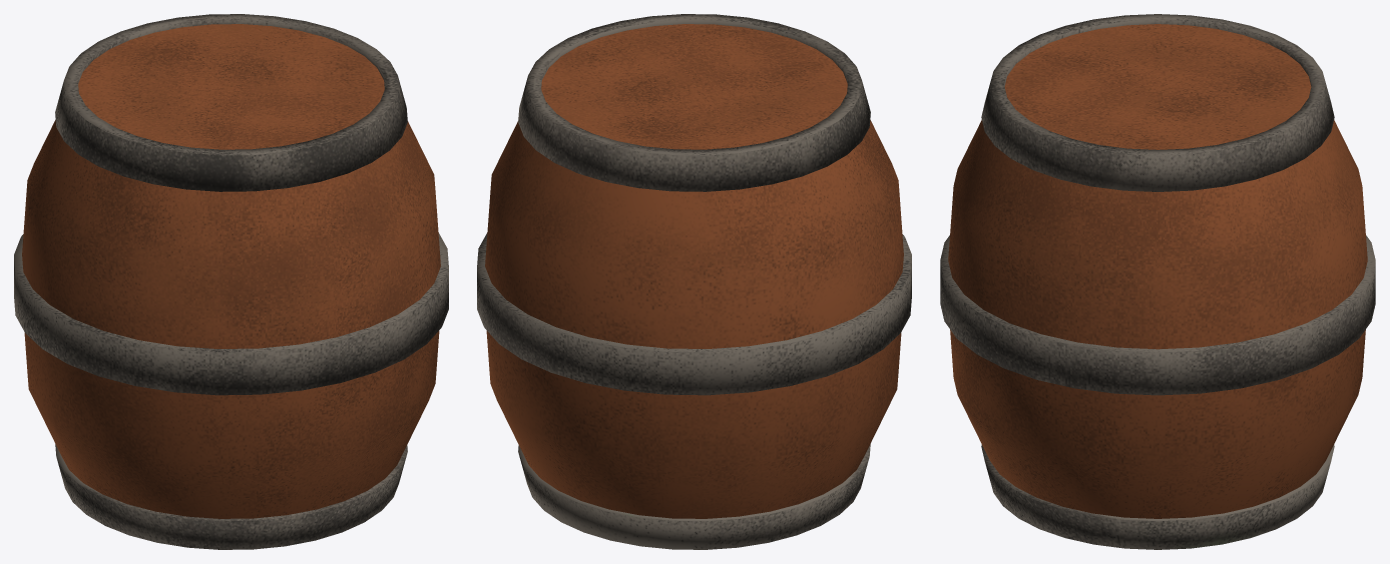
The model's file is BarrelProp.fbx.
The picture shows the model from 3 angles, left to right: view 1: azimuth 30°, elevation 25°; view 2: azimuth 150°, elevation 25°; view 3: azimuth 270°, elevation 25°; orthographic projection.
Visible parts, largest first — view 1: Barrel_LP; view 2: Barrel_LP; view 3: Barrel_LP.
Boxes of the visible parts, x1=… form: Barrel_LP: x1=14, y1=14, x2=448, y2=549; Barrel_LP: x1=477, y1=14, x2=911, y2=549; Barrel_LP: x1=940, y1=14, x2=1375, y2=549.
Bounding box in the file's own units: 123 × 122 × 123.
